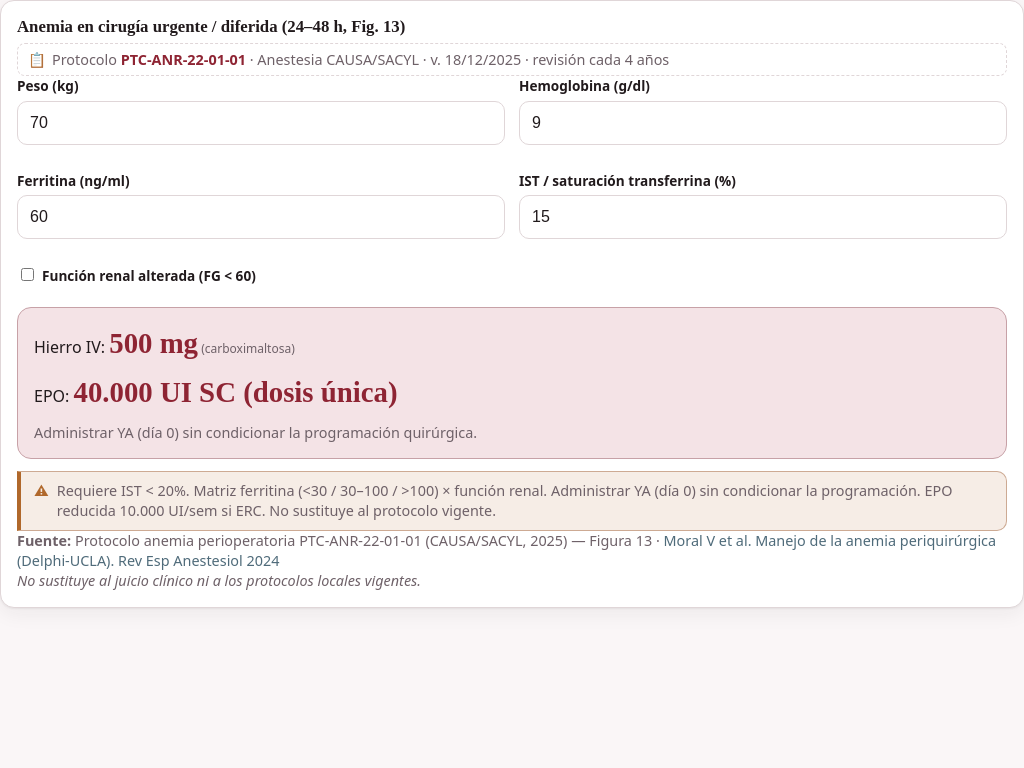
Pantallas de ferropenia — regresión Fase 2a › Urgente: caso 70 / IST 24 → fuera de la Figura 13, sin hierro ni EPO
This screenshot has width=1024, height=768.
Replace the text in the field labelled "Hemoglobina (g/dl)" with "10.5" at (763, 123), box [519,101,1007,145]
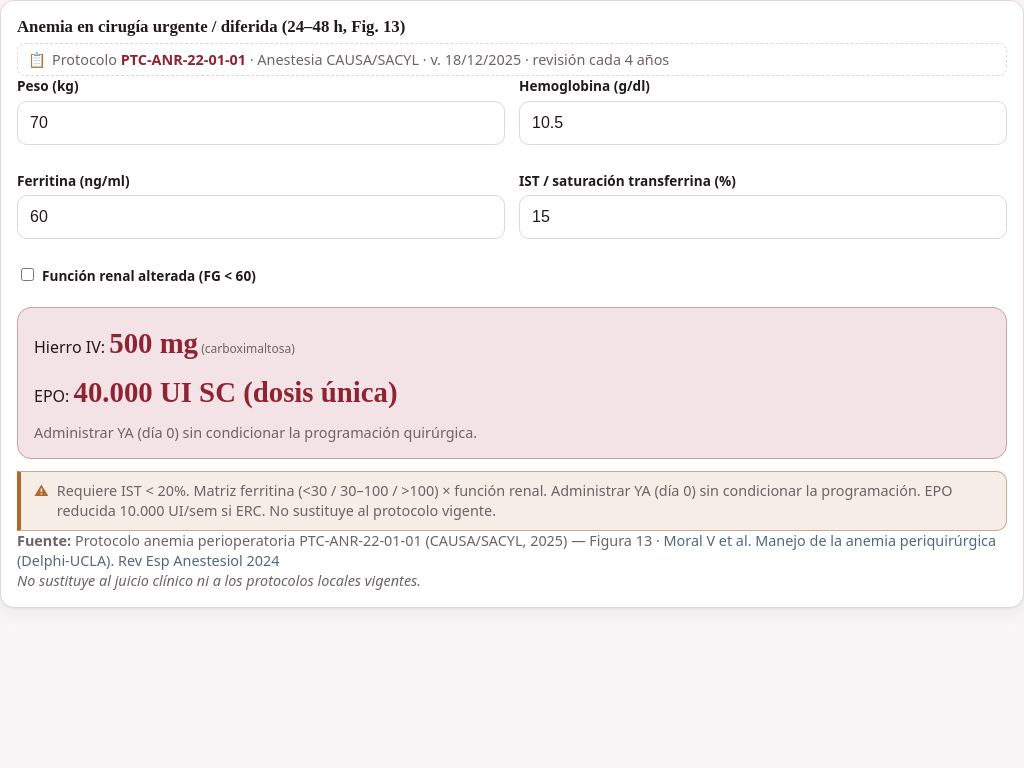
Replace the text in the field labelled "Ferritina (ng/ml)" with "70" at (261, 217), box [17,195,505,239]
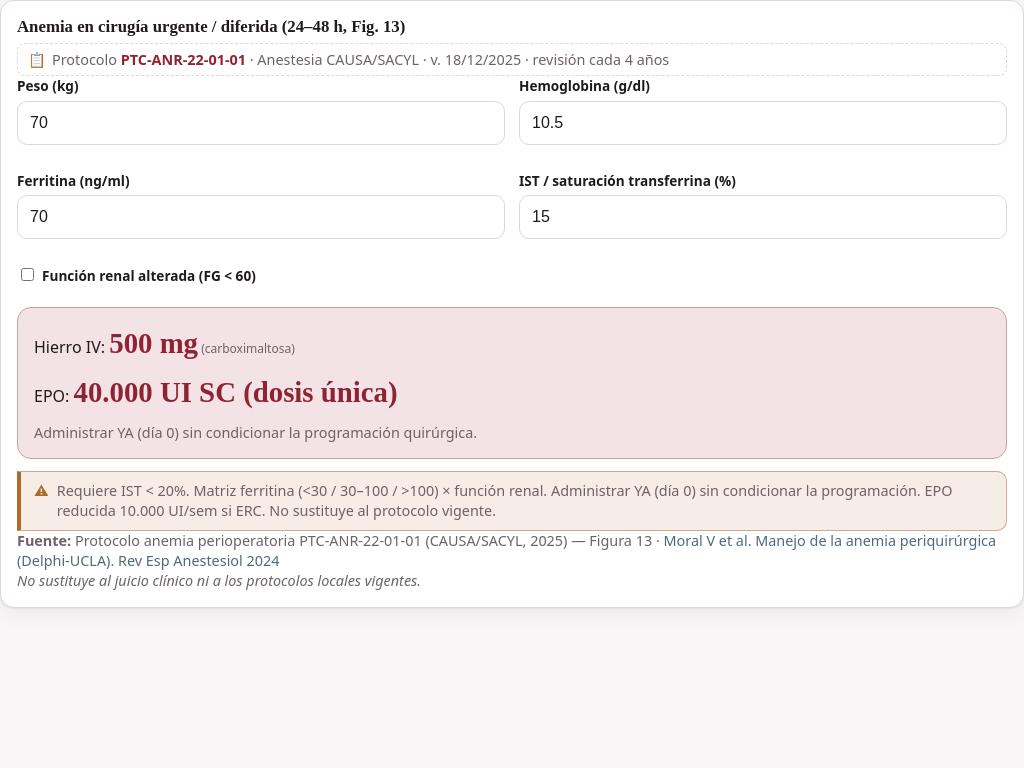
Replace the text in the field labelled "IST / saturación transferrina (%)" with "24" at (763, 217), box [519,195,1007,239]
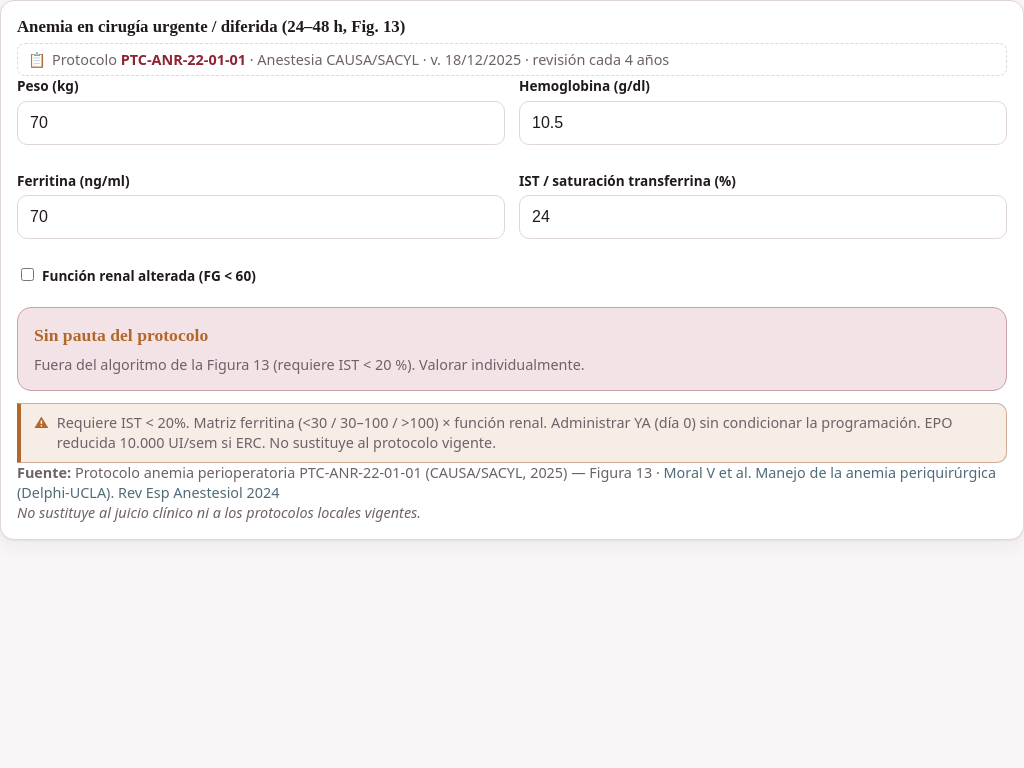
Expected: the text "Fuera del algoritmo de la Figura 13" is shown, [34,355,585,374]
Expected: the text "Hierro IV:" is gone
